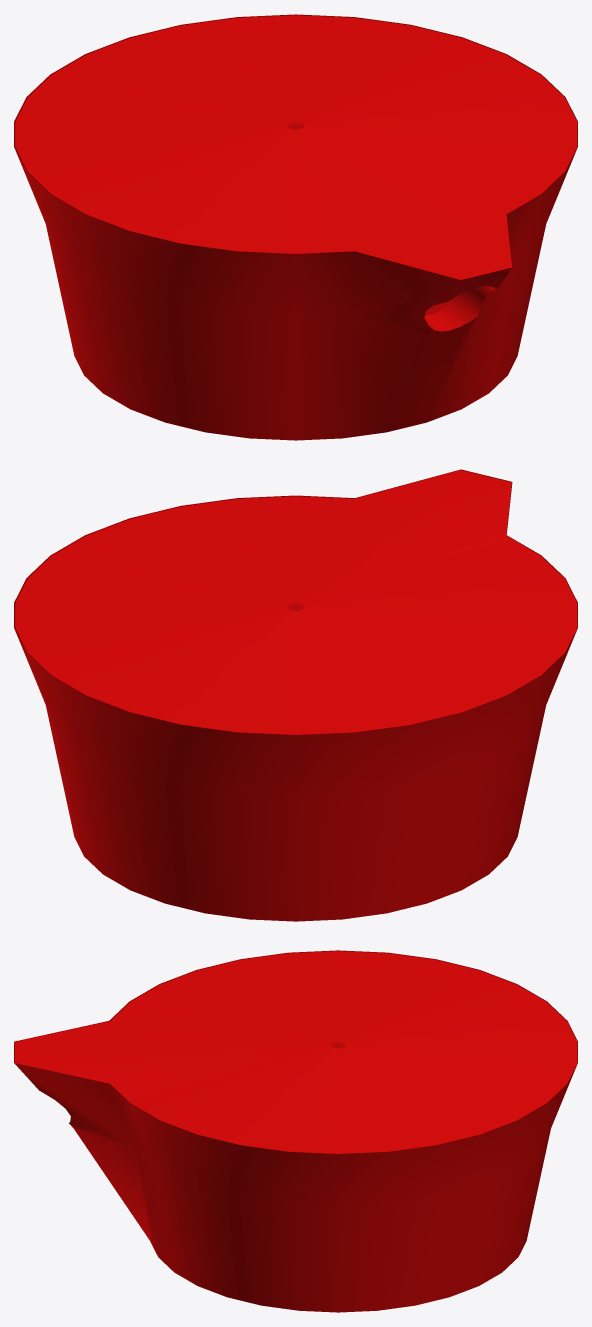
Rendered from soy_sauce.fbx.
3 views of the same model, one above another, from view 1: azimuth 30°, elevation 25°; view 2: azimuth 150°, elevation 25°; view 3: azimuth 270°, elevation 25° (orthographic). The views are drawn at different scales.
Parts seen in each view (by area): view 1: cap1; view 2: cap1; view 3: cap1.
Boxes of the visible parts, bbox=[...] form: cap1: bbox=[14, 14, 577, 440]; cap1: bbox=[14, 469, 577, 921]; cap1: bbox=[14, 950, 577, 1312].
Size of the model in its own units: 16.2 by 6.94 by 18.96.
